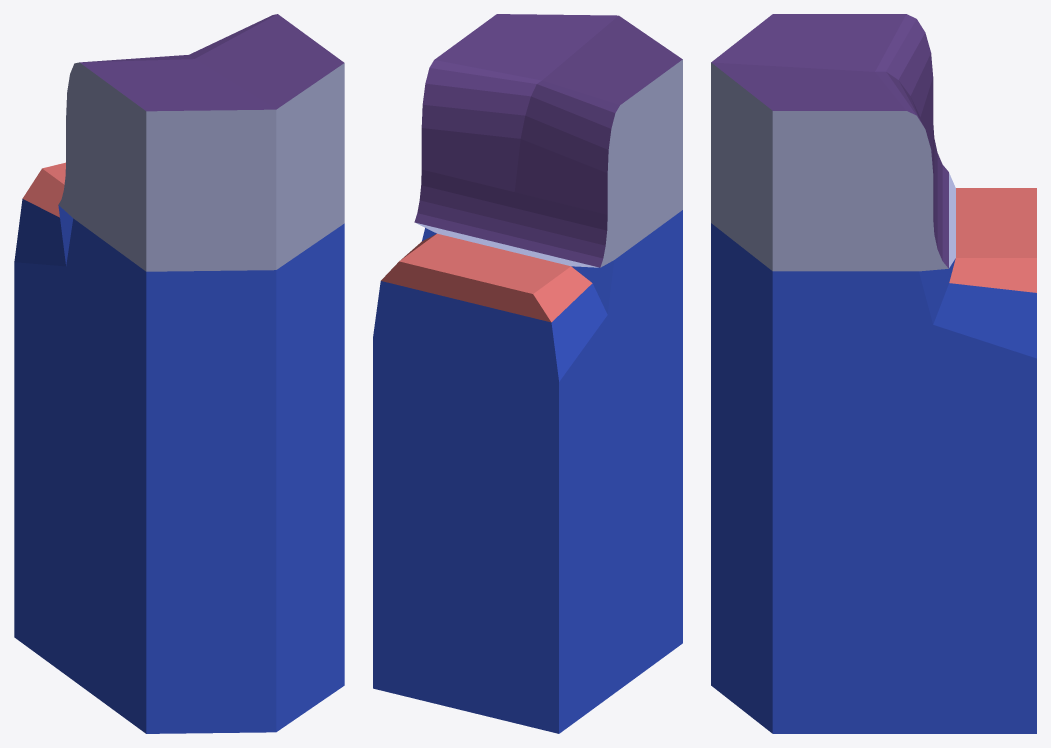
File: Encendedor.fbx
3 views of the same model, side by side, from view 1: azimuth 30°, elevation 25°; view 2: azimuth 150°, elevation 25°; view 3: azimuth 270°, elevation 25° (orthographic). The views are drawn at different scales.
Parts seen in each view (by area): view 1: Encendedor; view 2: Encendedor; view 3: Encendedor.
Boxes of the visible parts, x1,y1,x2,y2 form: Encendedor: [14, 14, 344, 733]; Encendedor: [373, 14, 682, 733]; Encendedor: [711, 14, 1036, 733].
Size of the model in its own units: 12.78 by 38.35 by 18.17.
